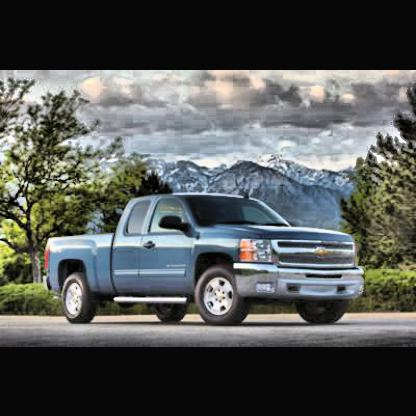Chevrolet Silverado 1500 Extended Cab 2012: (41, 191, 367, 330)
